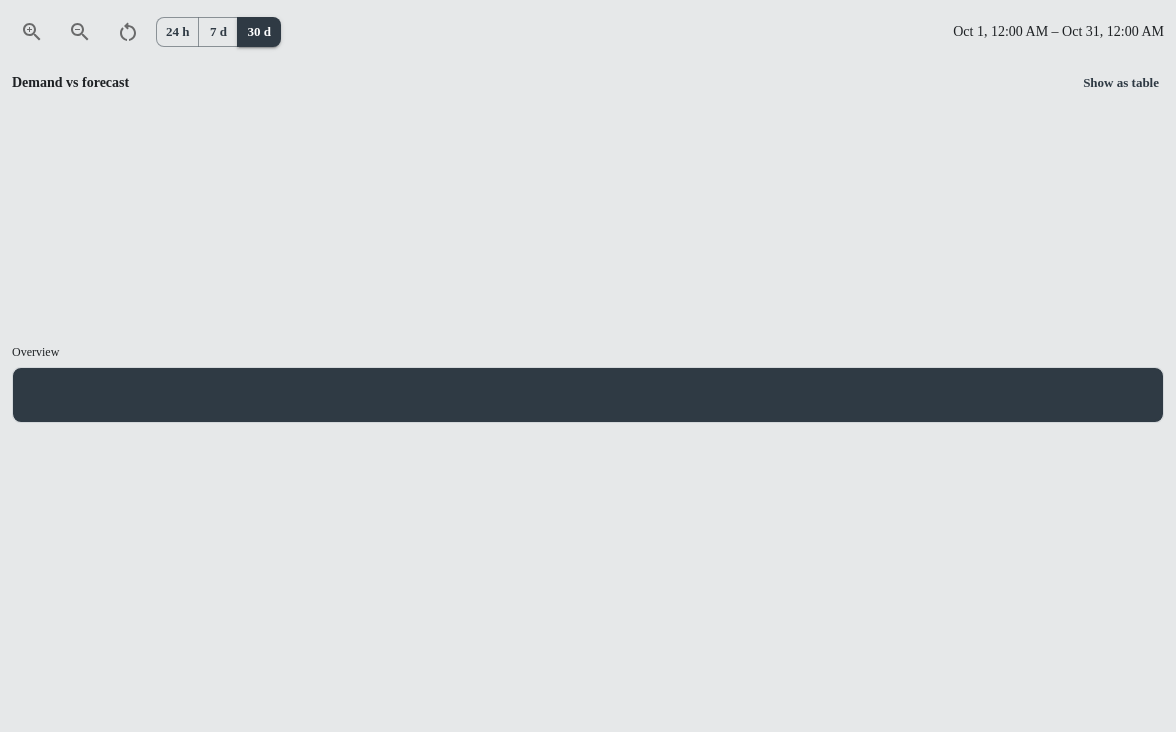
it: ChartWorkbench and TimeSeriesPane › shows the visible data as a table on request
Click the button "Show as table".
click(1121, 83)  # box [1078,68,1164,99]
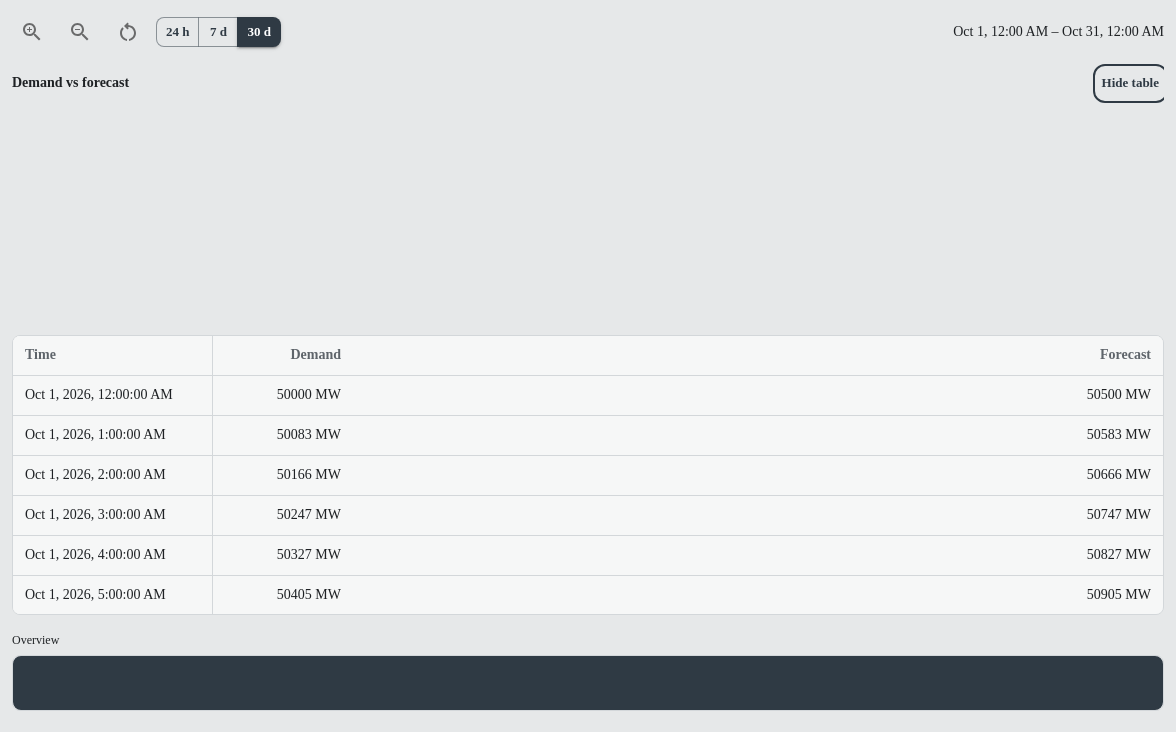
Check: the column heading "Forecast" is shown, box [1100,347,1151,362]
Check: the button "Hide table" is expanded, box [1097,68,1164,99]
